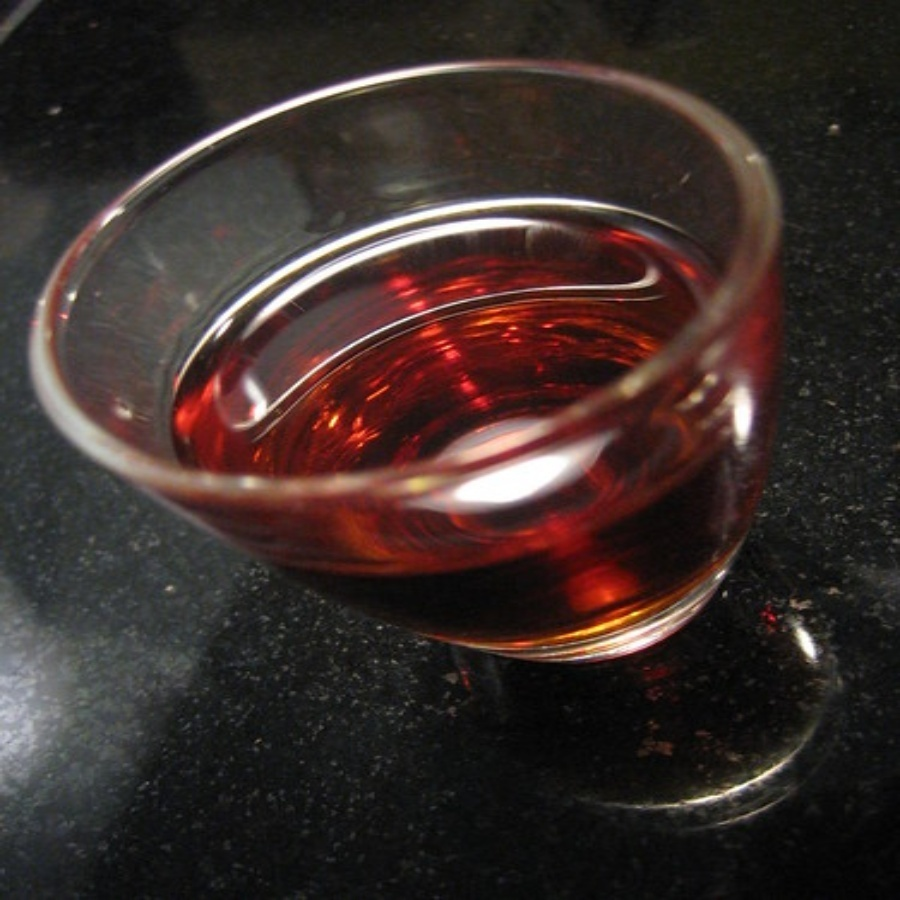whiskey: (61, 59, 765, 811)
